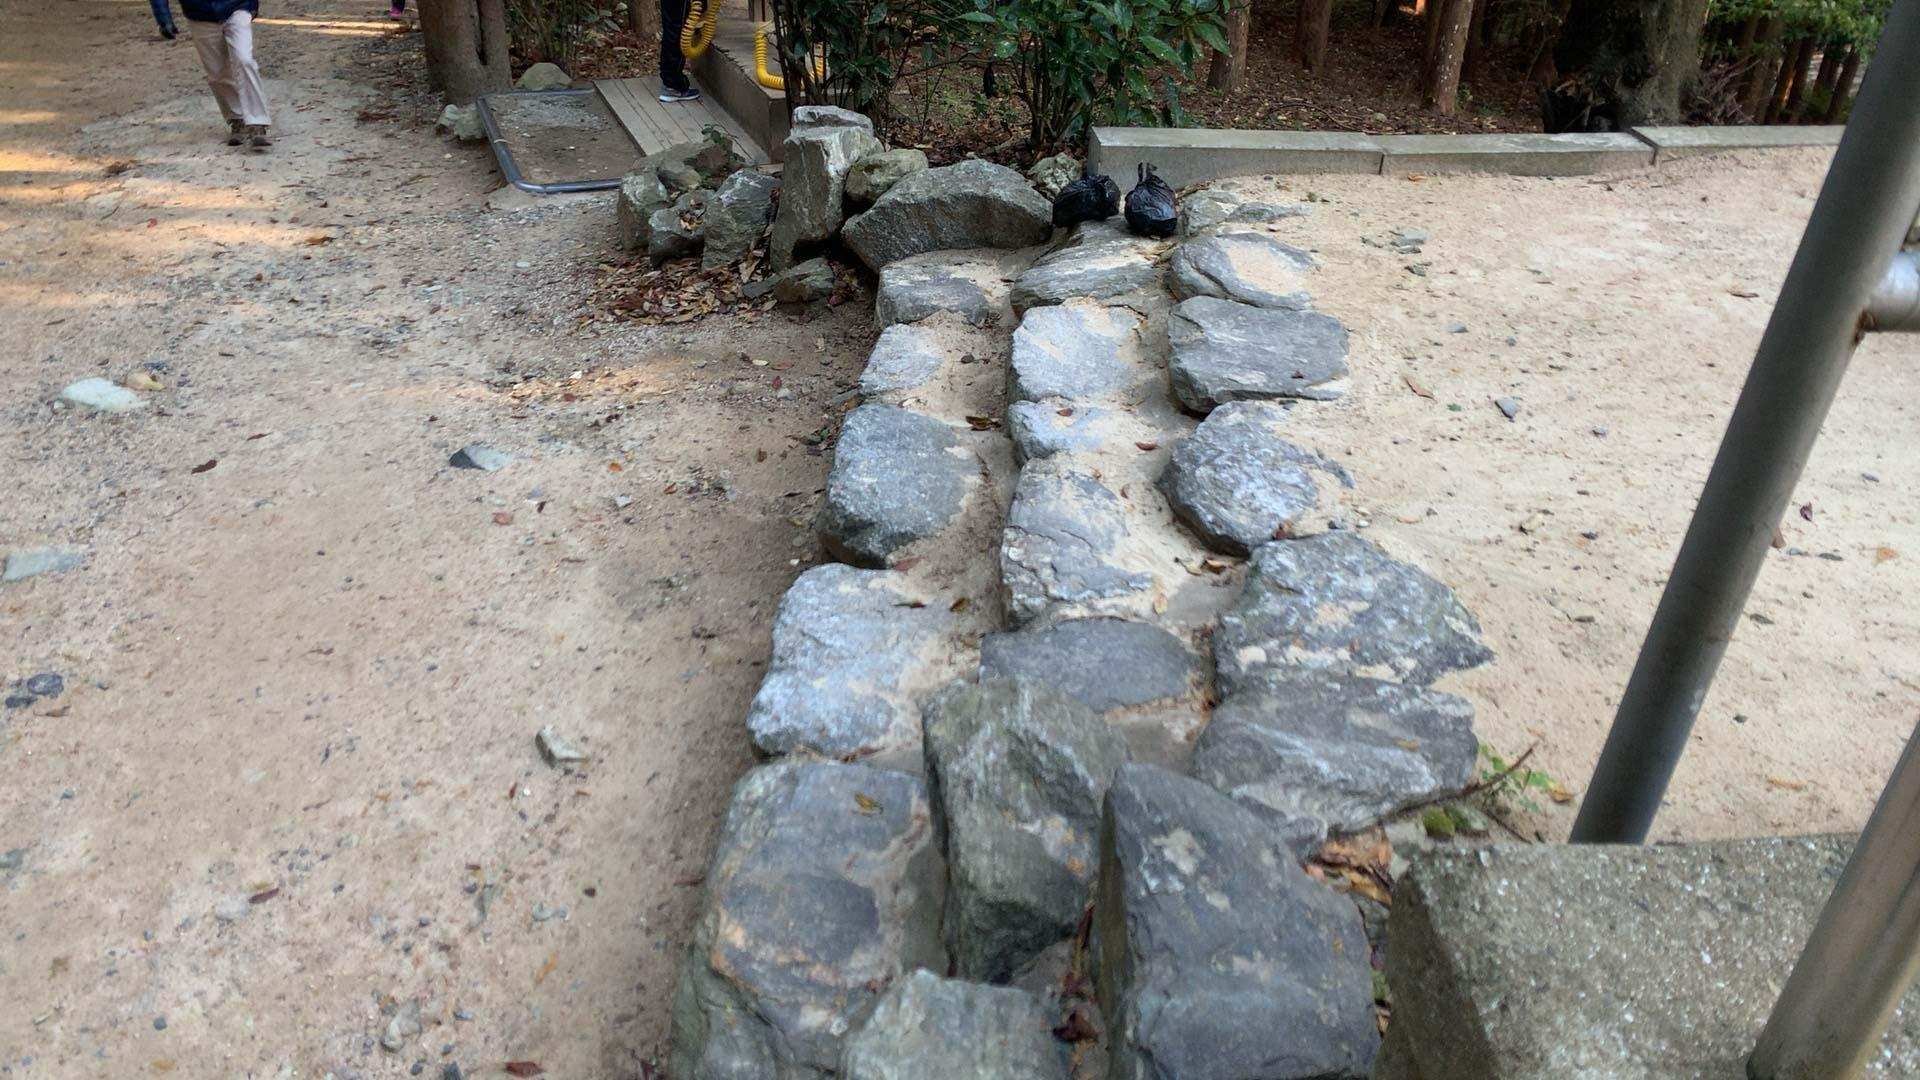black_bag: (1124, 158, 1180, 233), (1048, 170, 1121, 227)
